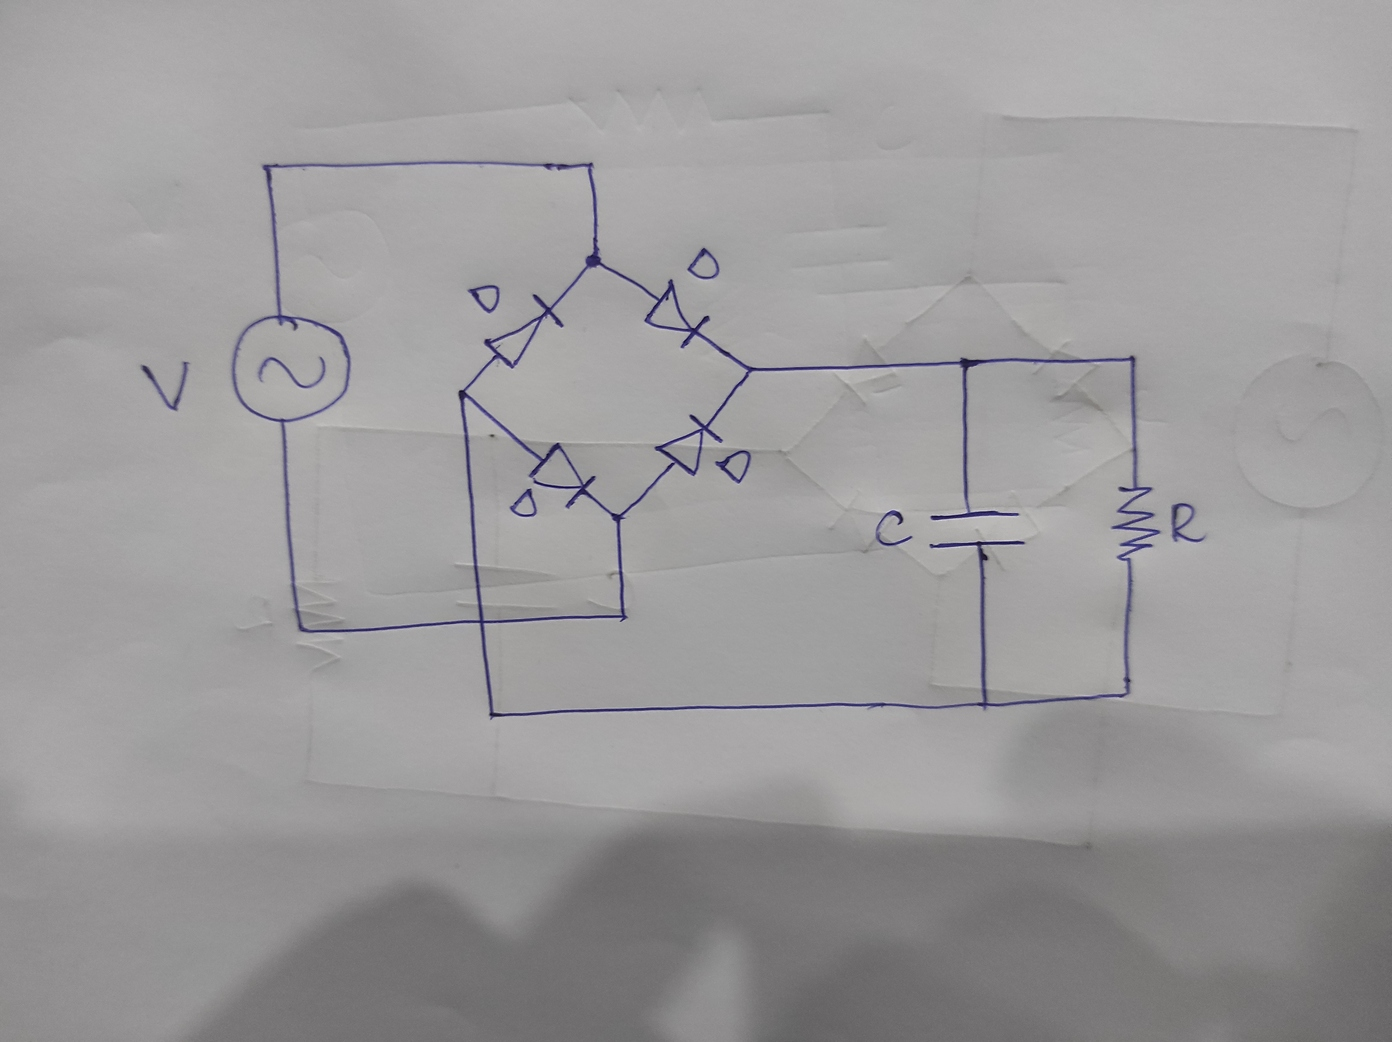capacitor.unpolarized: (923, 501, 1031, 554)
crossover: (469, 612, 492, 630)
diode: (482, 291, 567, 371), (526, 439, 599, 512), (641, 277, 712, 351), (652, 412, 726, 479)
junction: (575, 153, 605, 180), (579, 247, 608, 273), (451, 380, 476, 405), (255, 157, 281, 180), (611, 602, 633, 627), (1120, 349, 1142, 371), (1115, 682, 1138, 703), (483, 703, 503, 725), (606, 507, 629, 526), (736, 362, 757, 382), (971, 697, 997, 713), (955, 354, 974, 373), (291, 620, 310, 639)
resistor: (1104, 482, 1164, 564)
text: (140, 356, 193, 414), (1167, 500, 1208, 548), (874, 505, 915, 551), (684, 245, 723, 285), (712, 445, 753, 484), (466, 281, 504, 316), (506, 486, 540, 521)
voltage.dc_ac: (225, 312, 353, 425)
